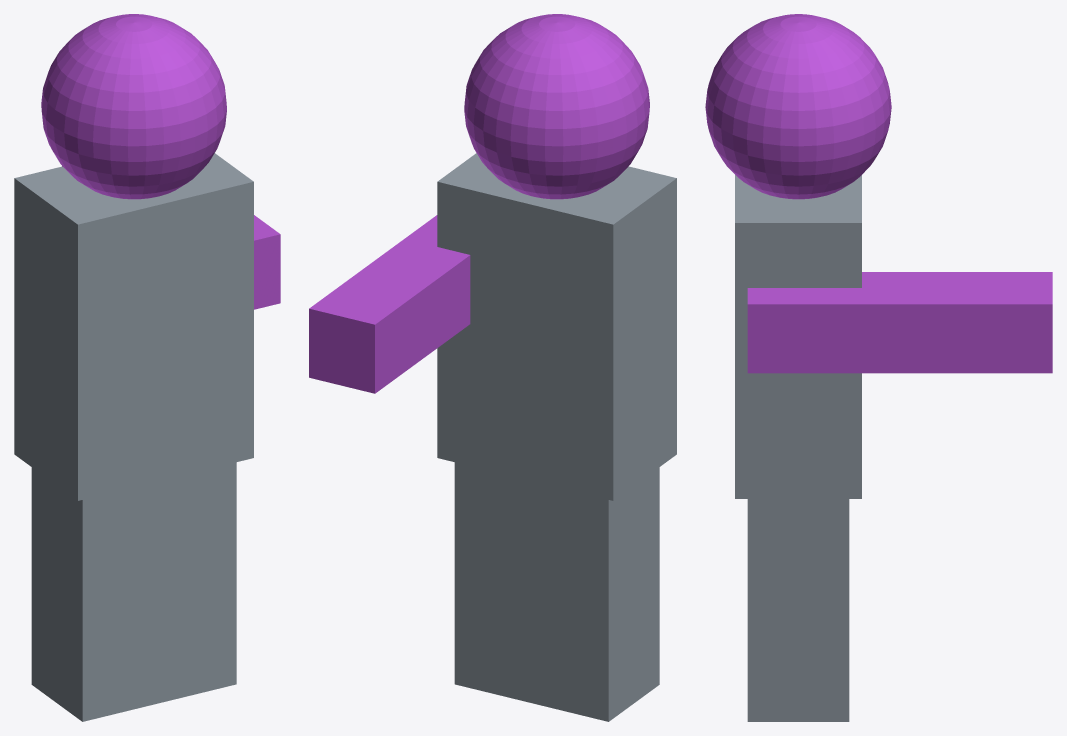
The model's file is CH_AporiaSniper_LOD0.glb.
3 renders of one model, left to right at view 1: azimuth 30°, elevation 25°; view 2: azimuth 150°, elevation 25°; view 3: azimuth 270°, elevation 25°, orthographic.
Visible parts, largest first — view 1: Head; view 2: Head; view 3: Head.
Part boxes in pixels (x1,y1,x2,y2): Head: [14, 14, 280, 721]; Head: [309, 14, 676, 721]; Head: [705, 14, 1052, 721].
Bounding box in the file's own units: 57 × 172 × 82.
